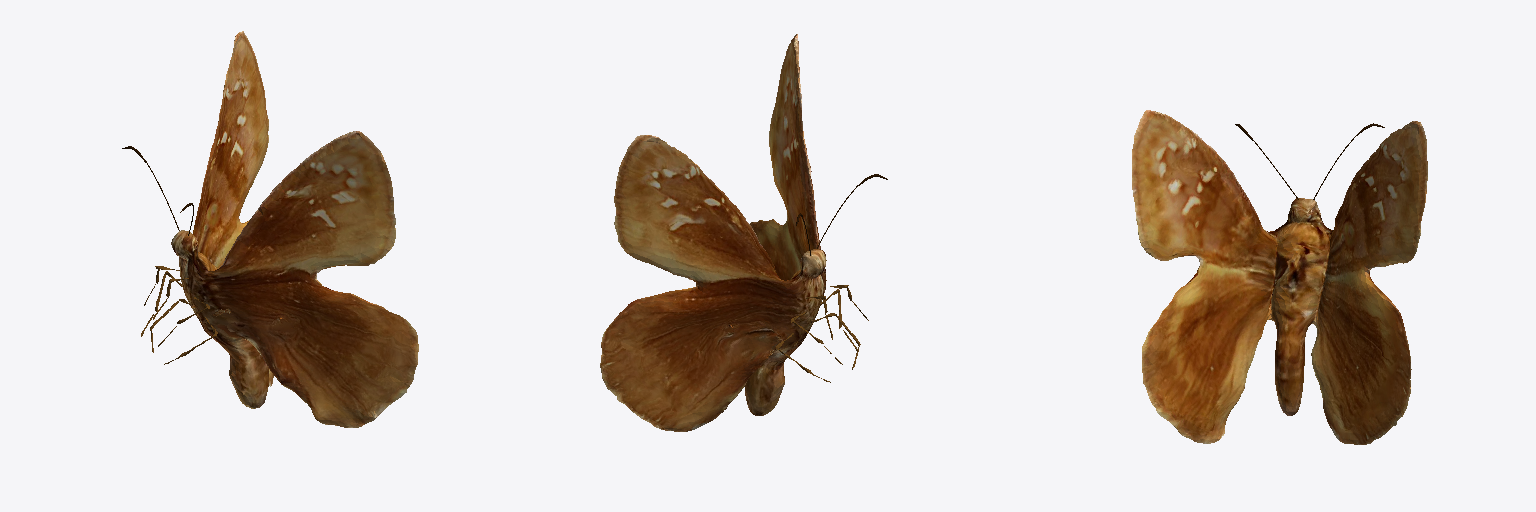
3 renders of one model, left to right at view 1: azimuth 30°, elevation 25°; view 2: azimuth 150°, elevation 25°; view 3: azimuth 270°, elevation 25°, orthographic.
Parts seen in each view (by area): view 1: dusky_mmGroup0; view 2: dusky_mmGroup0; view 3: dusky_mmGroup0.
Part boxes in pixels (left/top/right/bottom): dusky_mmGroup0: left=171, top=31, right=418, bottom=427; dusky_mmGroup0: left=600, top=34, right=826, bottom=431; dusky_mmGroup0: left=1132, top=110, right=1427, bottom=444.
Size of the model in its own units: 4.52 by 6.92 by 5.66.
4 materials, 1 textured.